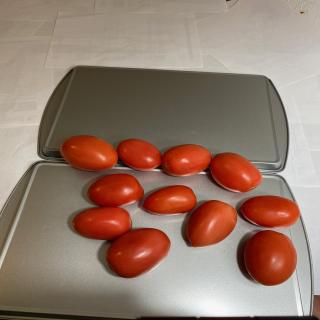Tomato: (105, 228, 171, 278), (244, 230, 297, 286), (186, 200, 237, 247), (210, 152, 263, 193), (60, 135, 118, 172), (72, 206, 132, 240), (240, 195, 300, 228), (87, 173, 144, 207), (161, 144, 212, 177), (143, 185, 197, 216), (117, 138, 162, 172)
